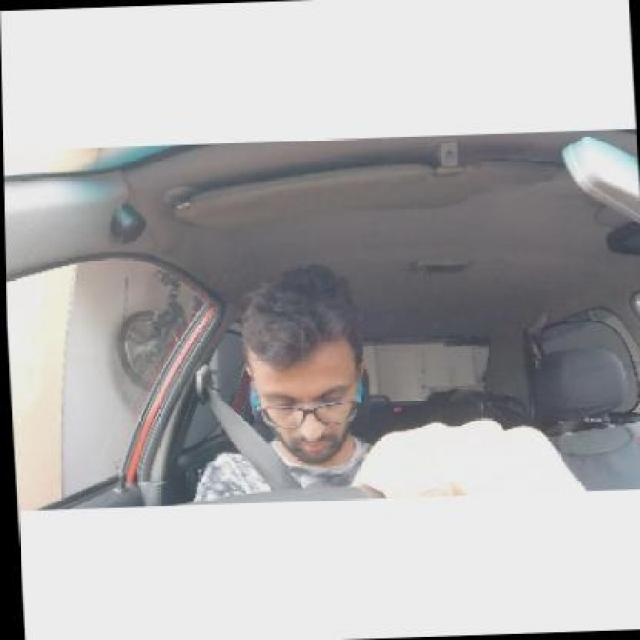drowsy: (222, 264, 382, 472)
